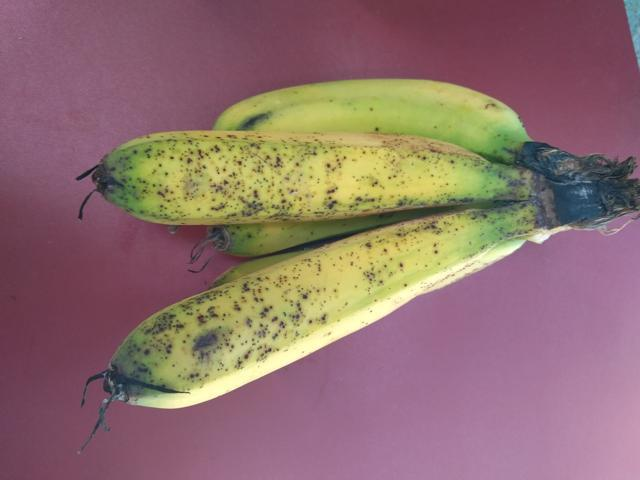ripe: (75, 213, 502, 427), (96, 118, 495, 219)
